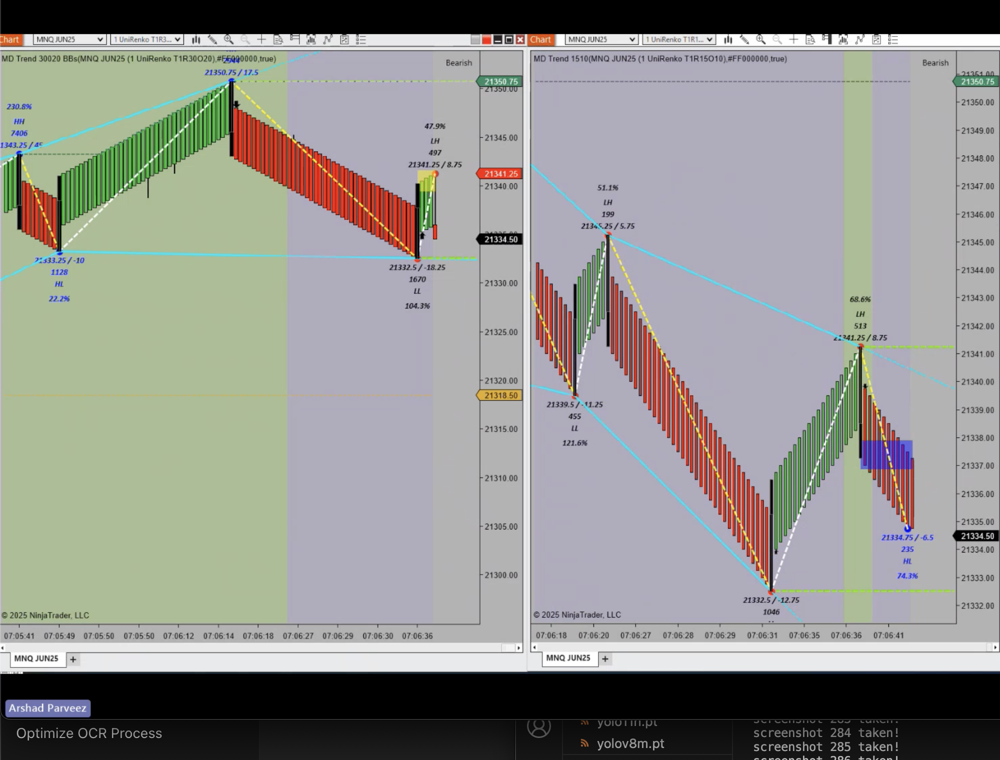HH: (10, 115, 35, 129)
HL: (895, 551, 922, 570), (50, 276, 74, 291)
LH: (591, 193, 627, 212), (422, 130, 451, 150), (848, 304, 875, 324)
LL: (406, 283, 434, 302), (562, 422, 587, 438)
